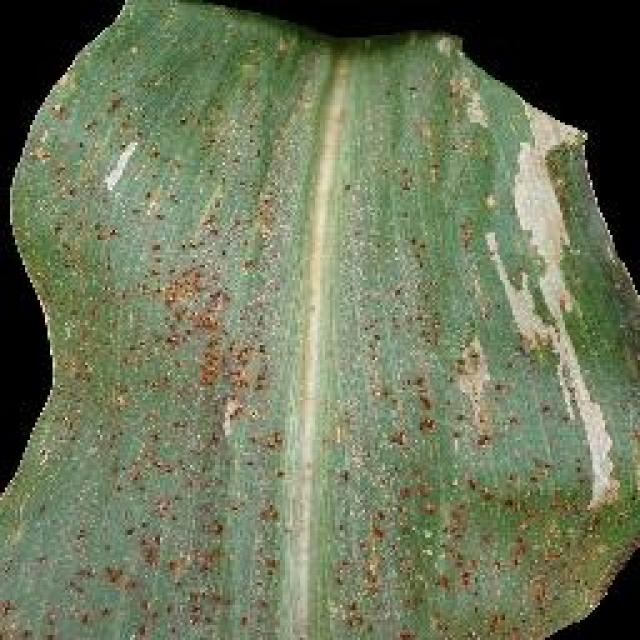Corn Common Rust: (51, 110, 640, 640)
